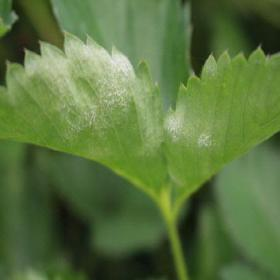Powdery Mildew Leaf: (0, 29, 171, 206), (161, 43, 279, 209)
